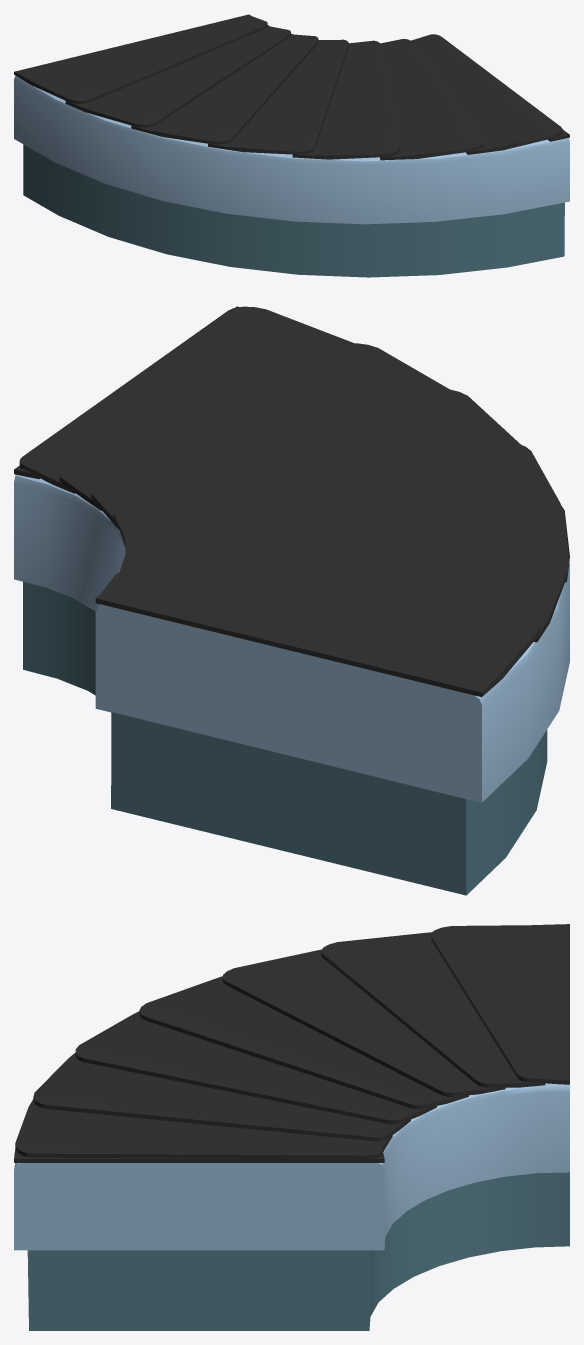
File: airport-baggage-carousel-5.glb
3 renders of one model, top to bottom at view 1: azimuth 30°, elevation 25°; view 2: azimuth 150°, elevation 25°; view 3: azimuth 270°, elevation 25°, orthographic. The views are drawn at different scales.
Visible parts, largest first — view 1: 12.4.BaggageClaimBand_AIRPORT_0; view 2: 12.4.BaggageClaimBand_AIRPORT_0; view 3: 12.4.BaggageClaimBand_AIRPORT_0.
Boxes of the visible parts, <box> form: 12.4.BaggageClaimBand_AIRPORT_0: <box>14,14,569,277</box>; 12.4.BaggageClaimBand_AIRPORT_0: <box>14,306,569,895</box>; 12.4.BaggageClaimBand_AIRPORT_0: <box>14,924,569,1330</box>.
Bounding box in the file's own units: 2.63 × 0.9172 × 2.63.
Materials: 1 (1 with a texture image).
